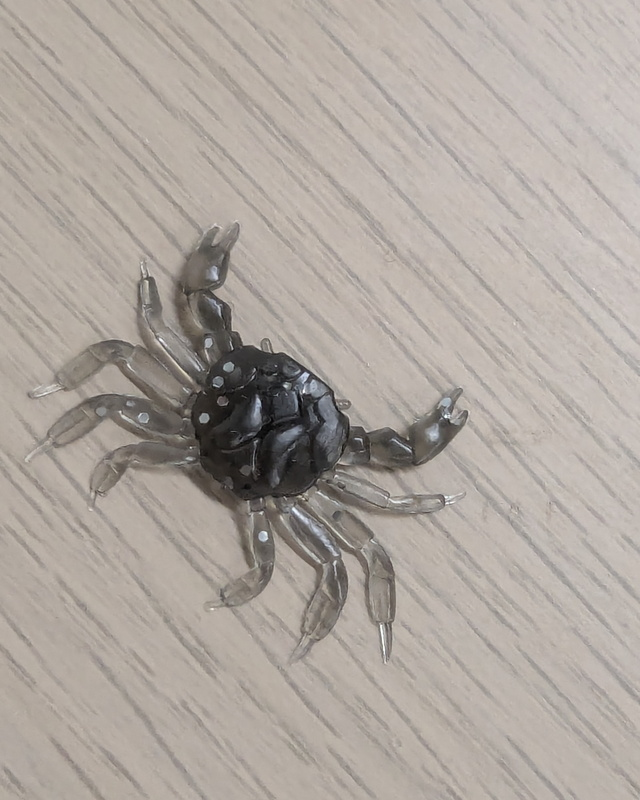crab1: (21, 220, 475, 670)
